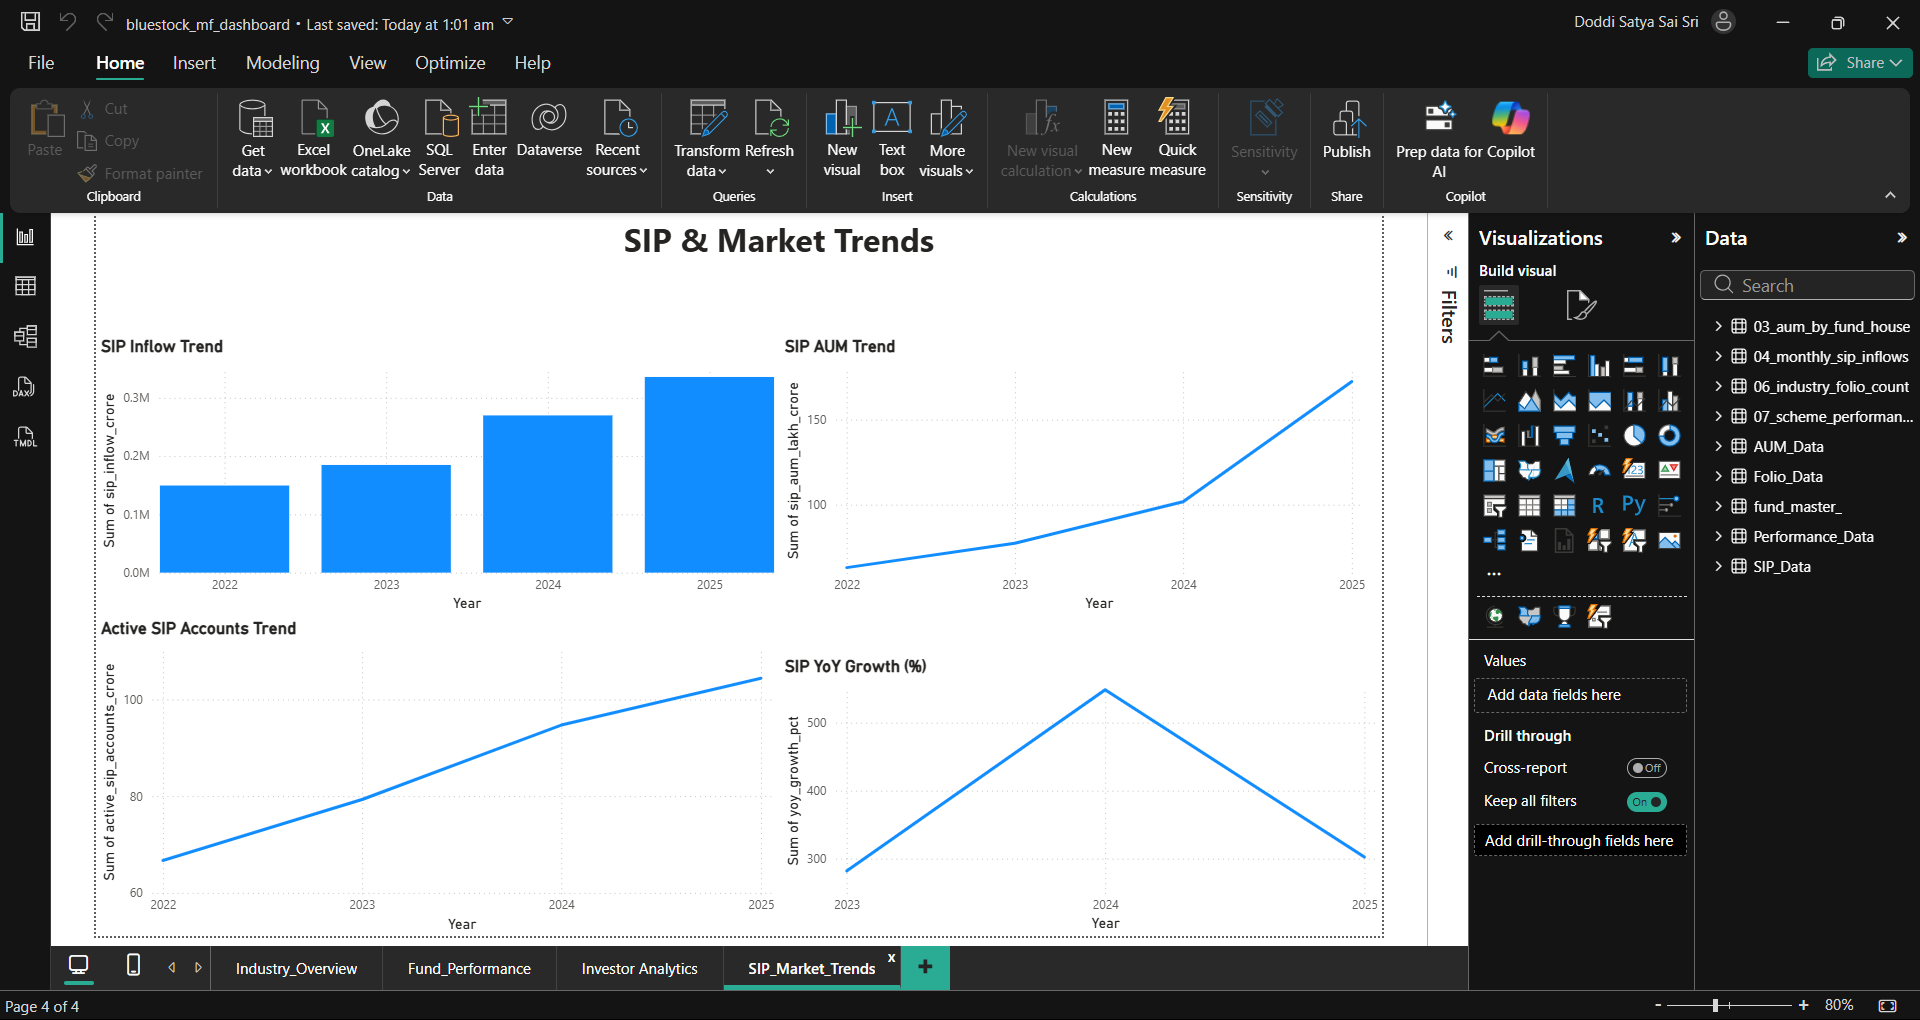

Layout of this report page (visuals, bound fields, positions):
{"tool":"powerbi","page":{"name":"SIP_Market_Trends","canvas":[1280,720],"ordinal":3},"visuals":[{"type":"clusteredColumnChart","title":"SIP Inflow Trend","fields":{"Category":["SIP_Data.month.Variation.Date Hierarchy.Year","SIP_Data.month.Variation.Date Hierarchy.Quarter","SIP_Data.month.Variation.Date Hierarchy.Month","SIP_Data.month.Variation.Date Hierarchy.Day"],"Y":["Sum(SIP_Data.sip_inflow_crore)"]},"box":[0,122.5,680,280],"z":0},{"type":"lineChart","title":"SIP AUM Trend","fields":{"Category":["SIP_Data.month.Variation.Date Hierarchy.Year","SIP_Data.month.Variation.Date Hierarchy.Quarter","SIP_Data.month.Variation.Date Hierarchy.Month","SIP_Data.month.Variation.Date Hierarchy.Day"],"Y":["Sum(SIP_Data.sip_aum_lakh_crore)"]},"box":[680,122.5,587.5,280],"z":1000},{"type":"lineChart","title":"Active SIP Accounts Trend","fields":{"Category":["SIP_Data.month.Variation.Date Hierarchy.Year","SIP_Data.month.Variation.Date Hierarchy.Quarter","SIP_Data.month.Variation.Date Hierarchy.Month","SIP_Data.month.Variation.Date Hierarchy.Day"],"Y":["Sum(SIP_Data.active_sip_accounts_crore)"]},"box":[0,402.5,680,317.5],"z":2000},{"type":"lineChart","title":"SIP YoY Growth (%)","fields":{"Category":["SIP_Data.month.Variation.Date Hierarchy.Year","SIP_Data.month.Variation.Date Hierarchy.Quarter","SIP_Data.month.Variation.Date Hierarchy.Month","SIP_Data.month.Variation.Date Hierarchy.Day"],"Y":["Sum(SIP_Data.yoy_growth_pct)"]},"box":[680,440,600,280],"z":3000},{"type":"textbox","box":[332.5,0,695,82.5],"z":4000}]}

Visuals, with their boxes on the page's 1280x720 design canvas (x1, y1, x2, y2). These are canvas units, not pixel positions in the 1920x1020 screenshot, which may show the page scaled, cropped or inside an application window:
"SIP Inflow Trend" clusteredColumnChart: [x1=0, y1=122, x2=680, y2=402]
"SIP AUM Trend" lineChart: [x1=680, y1=122, x2=1268, y2=402]
"Active SIP Accounts Trend" lineChart: [x1=0, y1=402, x2=680, y2=720]
"SIP YoY Growth (%)" lineChart: [x1=680, y1=440, x2=1280, y2=720]
textbox: [x1=332, y1=0, x2=1028, y2=82]
